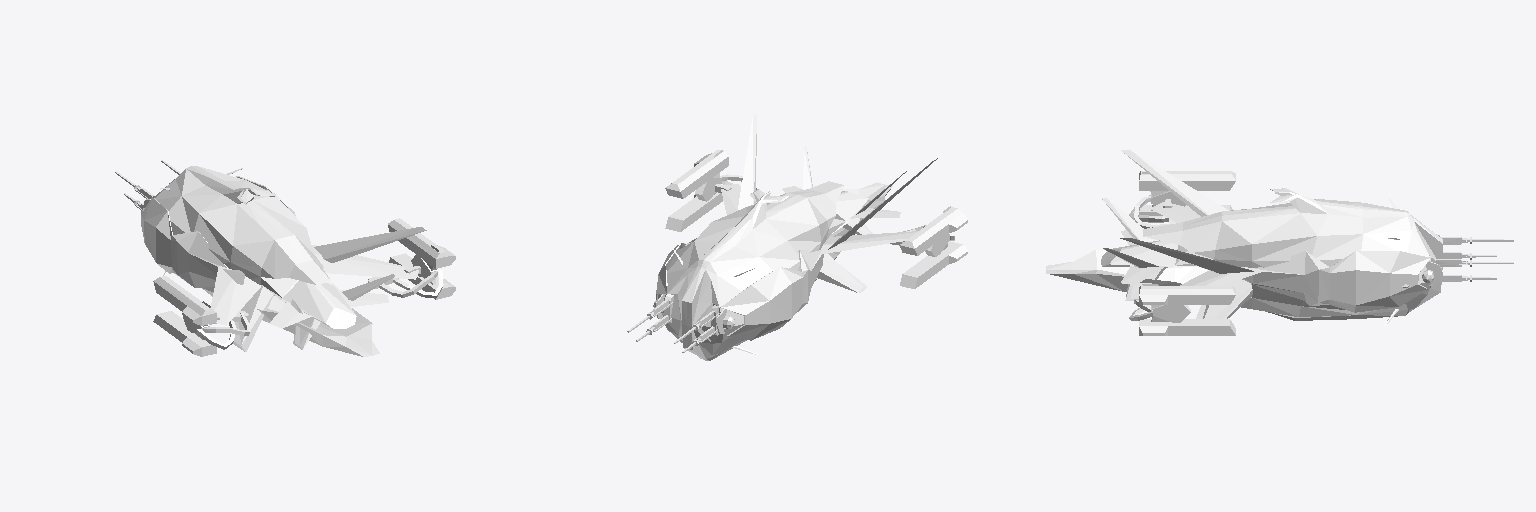
The model's file is marauder.obj.
The picture shows the model from 3 angles: view 1: azimuth 30°, elevation 25°; view 2: azimuth 150°, elevation 25°; view 3: azimuth 270°, elevation 25°; orthographic projection.
Parts seen in each view (by area): view 1: marauder; view 2: marauder; view 3: marauder.
Part boxes in pixels (x1,y1,x2,y2): marauder: (115, 160, 455, 356); marauder: (627, 114, 967, 360); marauder: (1046, 150, 1513, 335).
Size of the model in its own units: 6.51 by 3.02 by 10.02.